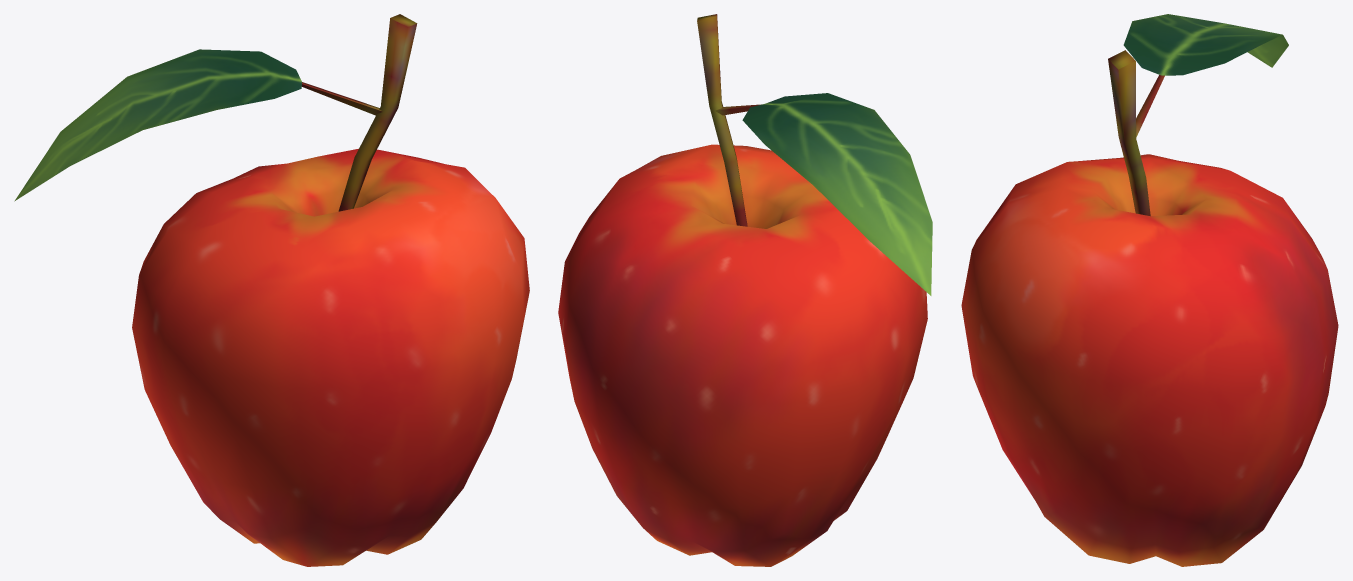
File: apple_001.fbx
3 views of the same model, side by side, from view 1: azimuth 30°, elevation 25°; view 2: azimuth 150°, elevation 25°; view 3: azimuth 270°, elevation 25° (orthographic). The views are drawn at different scales.
Parts seen in each view (by area): view 1: apple_001; view 2: apple_001; view 3: apple_001.
Boxes of the visible parts, x1=… form: apple_001: x1=14, y1=14, x2=529, y2=566; apple_001: x1=558, y1=14, x2=932, y2=566; apple_001: x1=961, y1=14, x2=1338, y2=566.
Size of the model in its own units: 1.22 by 1.44 by 0.9532.
Materials: 1 (1 with a texture image).
